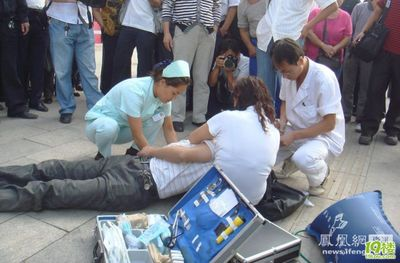10+: (1, 1, 400, 215)
down: (1, 124, 221, 215)
